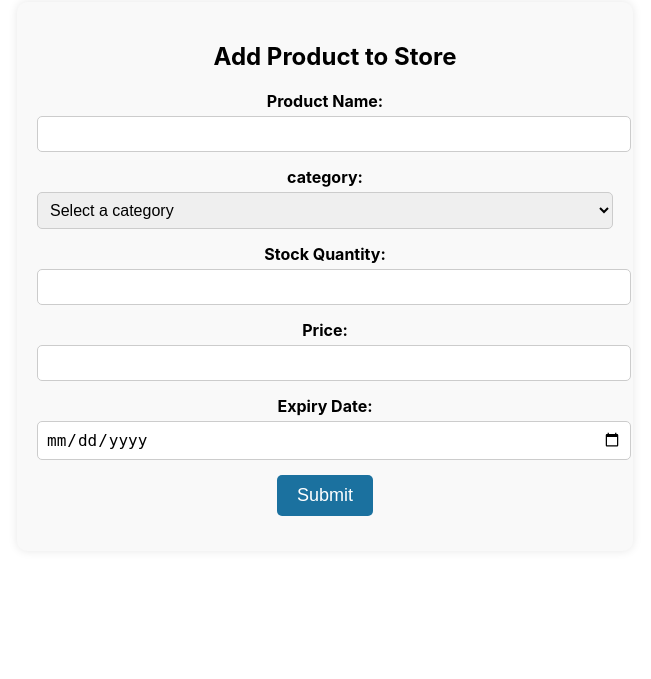
displays_validation_errors_with_empty_input_fields
Click the button "Submit" at (325, 495), box [277, 475, 373, 516]
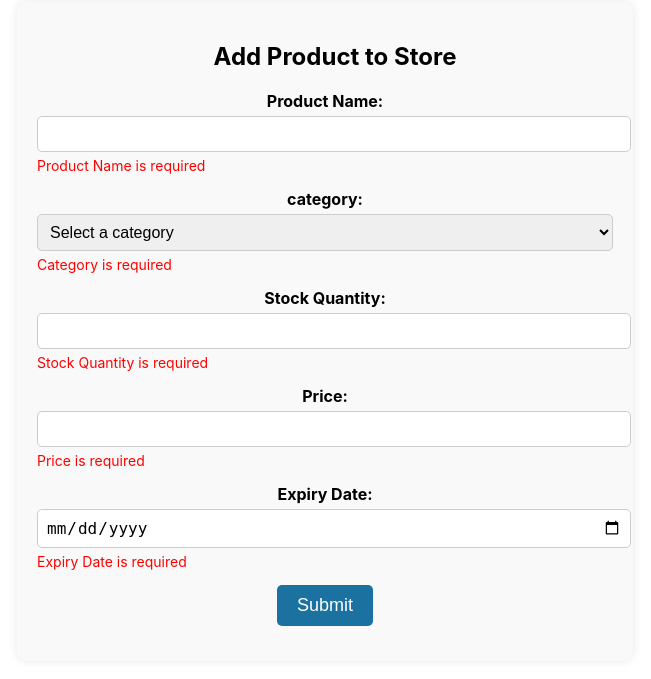
Expected: the text "Product Name is required" is shown, [37, 157, 206, 174]
Expected: the text "Category is required" is shown, [37, 256, 172, 273]
Expected: the text "Stock Quantity is required" is shown, [37, 354, 208, 371]
